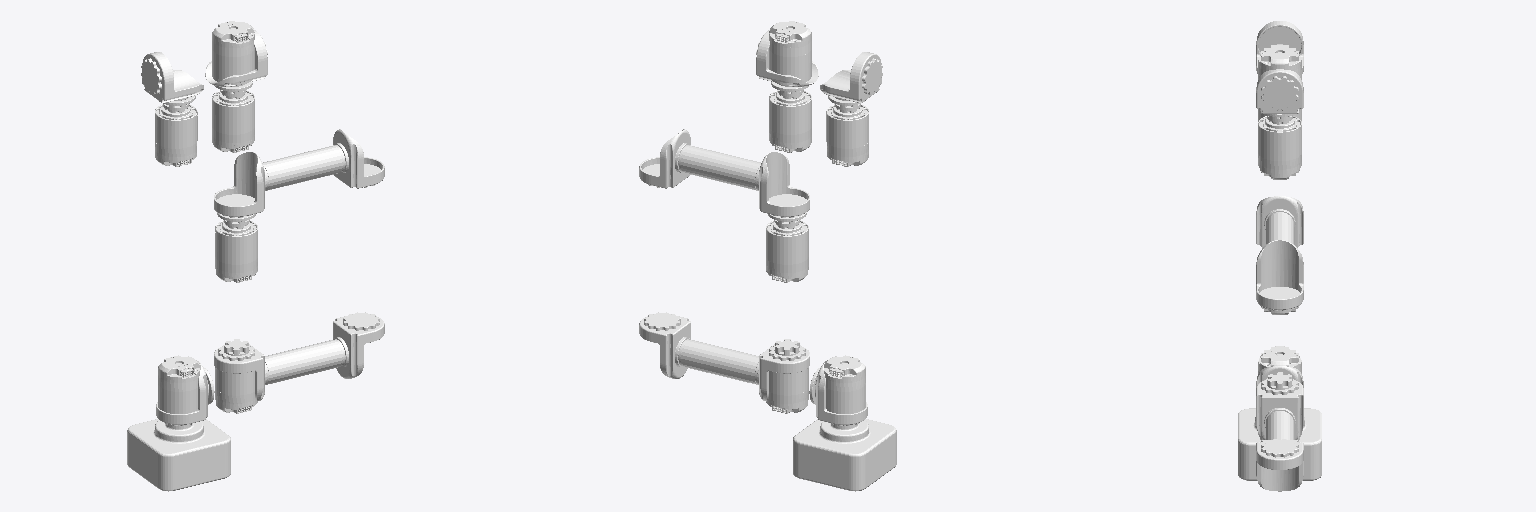
The robot description file, URDF, robot "gluon":
<?xml version="1.0" encoding="utf-8"?>
<!-- This URDF was automatically created by SolidWorks to URDF Exporter! Originally created by [author] ([email redacted]) 
     Commit Version: 1.5.1-0-g916b5db  Build Version: 1.5.7152.31018
     For more information, please see http://wiki.ros.org/sw_urdf_exporter -->
<robot
  name="gluon">
  <link
    name="dummy">
  </link>
  <link
    name="base_link">
    <inertial>
      <origin
        xyz="4.33680868994202E-18 -6.00214600243731E-11 0.0271404483614374"
        rpy="0 0 0" />
      <mass
        value="0.524001417146026" />
      <inertia
        ixx="0.000535467082580035"
        ixy="-5.8056109802237E-10"
        ixz="3.22416889484249E-20"
        iyy="0.000535467122847014"
        iyz="-1.91837356854663E-11"
        izz="0.000799852045598815" />
    </inertial>
    <visual>
      <origin
        xyz="0 0 0"
        rpy="0 0 0" />
      <geometry>
        <mesh
          filename="./dae_meshes/base_link.dae" />
      </geometry>
      <material
        name="">
        <color
          rgba="1 1 1 1" />
      </material>
    </visual>
  </link>
  <link
    name="1_Link">
    <inertial>
      <origin
        xyz="0.00464247258603146 -3.55800695980568E-05 -0.000556506974114818"
        rpy="0 0 0" />
      <mass
        value="0.166259789544396" />
      <inertia
        ixx="6.76518298922659E-05"
        ixy="-1.5556489245956E-08"
        ixz="-8.15879264327807E-06"
        iyy="6.70385565720365E-05"
        iyz="4.11369338798553E-08"
        izz="6.03698353342124E-05" />
    </inertial>
    <visual>
      <origin
        xyz="0 0 0"
        rpy="0 0 0" />
      <geometry>
        <mesh
          filename="./dae_meshes/1_Link.dae" />
      </geometry>
      <material
        name="">
        <color
          rgba="1 1 1 1" />
      </material>
    </visual>
  </link>
  <link
    name="2_Link">
    <inertial>
      <origin
        xyz="-0.00354399449686532 6.83167072432211E-06 0.0535596075762168"
        rpy="0 0 0" />
      <mass
        value="0.316094041078938" />
      <inertia
        ixx="0.000174638310500152"
        ixy="-4.1835416811351E-08"
        ixz="-2.08841744154906E-07"
        iyy="0.000184936237600061"
        iyz="1.60668786323061E-08"
        izz="0.000107780595065675" />
    </inertial>
    <visual>
      <origin
        xyz="0 0 0"
        rpy="0 0 0" />
      <geometry>
        <mesh
          filename="./dae_meshes/2_Link.dae" />
      </geometry>
      <material
        name="">
        <color
          rgba="1 1 1 1" />
      </material>
    </visual>
  </link>
  <link
    name="3_Link">
    <inertial>
      <origin
        xyz="-0.046552753550141 -6.68259662081616E-06 0.0523242797053055"
        rpy="0 0 0" />
      <mass
        value="0.323135746651779" />
      <inertia
        ixx="0.000176611314431077"
        ixy="4.18325643591624E-08"
        ixz="2.08841259569185E-07"
        iyy="0.000185932099122903"
        iyz="1.40317731158265E-08"
        izz="0.000108776454638344" />
    </inertial>
    <visual>
      <origin
        xyz="0 0 0"
        rpy="0 0 0" />
      <geometry>
        <mesh
          filename="./dae_meshes/3_Link.dae" />
      </geometry>
      <material
        name="">
        <color
          rgba="1 1 1 1" />
      </material>
    </visual>
  </link>
  <link
    name="4_Link">
    <inertial>
      <origin
        xyz="0.0182269184920331 1.24412678982888E-05 0.00395855146065832"
        rpy="0 0 0" />
      <mass
        value="0.174947986817189" />
      <inertia
        ixx="6.61039276820243E-05"
        ixy="4.2340099438174E-08"
        ixz="-8.15879264340351E-06"
        iyy="6.76311730651952E-05"
        iyz="-1.4353323683088E-08"
        izz="6.34296690009448E-05" />
    </inertial>
    <visual>
      <origin
        xyz="0 0 0"
        rpy="0 0 0" />
      <geometry>
        <mesh
          filename="./dae_meshes/4_Link.dae" />
      </geometry>
      <material
        name="">
        <color
          rgba="1 1 1 1" />
      </material>
    </visual>
  </link>
  <link
    name="5_Link">
    <inertial>
      <origin
        xyz="0.00395855202736296 -3.51379306736399E-05 0.0182025903111476"
        rpy="0 0 0" />
      <mass
        value="0.174947985033356" />
      <inertia
        ixx="6.34296685392068E-05"
        ixy="1.43441999593359E-08"
        ixz="-8.15879467982627E-06"
        iyy="6.76311733496419E-05"
        iyz="-4.23418981680198E-08"
        izz="6.61039240611986E-05" />
    </inertial>
    <visual>
      <origin
        xyz="0 0 0"
        rpy="0 0 0" />
      <geometry>
        <mesh
          filename="./dae_meshes/5_Link.dae" />
      </geometry>
      <material
        name="">
        <color
          rgba="1 1 1 1" />
      </material>
    </visual>
  </link>
  <link
    name="6_Link">
    <inertial>
      <origin
        xyz="-0.00231632591813243 4.03819823737578E-05 -5.08515816782795E-05"
        rpy="0 0 0" />
      <mass
        value="0.122091979083374" />
      <inertia
        ixx="3.76561532469651E-05"
        ixy="4.18325643595058E-08"
        ixz="-2.08841259371089E-07"
        iyy="4.00422747874576E-05"
        iyz="-1.50489542382975E-08"
        izz="3.97966719504564E-05" />
    </inertial>
    <visual>
      <origin
        xyz="0 0 0"
        rpy="0 0 0" />
      <geometry>
        <mesh
          filename="./dae_meshes/6_Link.dae" />
      </geometry>
      <material
        name="">
        <color
          rgba="1 1 1 1" />
      </material>
    </visual>
  </link>
  <joint
    name="dummy_joint"
    type="fixed">
    <origin
        xyz="0 0 0"
        rpy="0 0 0" />
    <parent
        link="dummy" />
    <child
        link="base_link" />
  </joint>
  <joint
    name="axis_joint_1"
    type="revolute">
    <origin
      xyz="-2.4327E-05 2.2695E-05 0.105"
      rpy="0 0 0" />
    <parent
      link="base_link" />
    <child
      link="1_Link" />
    <axis
      xyz="0 0 1" />
    <limit
      lower="-2.79"
      upper="2.79"
      effort="30"
      velocity="3.14" />
  </joint>
  <joint
    name="axis_joint_2"
    type="revolute">
    <origin
      xyz="0.080113 -2.2695E-05 0"
      rpy="0 1.57079632679 0" />
    <parent
      link="1_Link" />
    <child
      link="2_Link" />
    <axis
      xyz="0 0 1" />
    <limit
      lower="-1.54"
      upper="1.54"
      effort="30"
      velocity="3.14" />
  </joint>
  <joint
    name="axis_joint_3"
    type="revolute">
    <origin
      xyz="-0.17447 0 0"
      rpy="0 0 0" />
    <parent
      link="2_Link" />
    <child
      link="3_Link" />
    <axis
      xyz="0 0 1" />
    <limit
      lower="-2.79"
      upper="2.79"
      effort="30"
      velocity="3.14" />
  </joint>
  <joint
    name="axis_joint_4"
    type="revolute">
    <origin
      xyz="-0.17442 0 -0.084516"
      rpy="0 3.14159265358 0" />
    <parent
      link="3_Link" />
    <child
      link="4_Link" />
    <axis
      xyz="0 0 1" />
    <limit
      lower="-2.79"
      upper="2.79"
      effort="30"
      velocity="3.14" />
  </joint>
  <joint
    name="axis_joint_5"
    type="revolute">
    <origin
      xyz="0 2.2695E-05 -0.080113"
      rpy="0 1.57079632679 0" />
    <parent
      link="4_Link" />
    <child
      link="5_Link" />
    <axis
      xyz="0 0 1" />
    <limit
      lower="-2.79"
      upper="2.79"
      effort="30"
      velocity="3.14" />
  </joint>
  <joint
    name="axis_joint_6"
    type="revolute">
    <origin
      xyz="0 -4.5391E-05 0.080089"
      rpy="0 1.57079632679 0" />
    <parent
      link="5_Link" />
    <child
      link="6_Link" />
    <axis
      xyz="0 0 1" />
    <limit
      lower="-2.79"
      upper="2.79"
      effort="30"
      velocity="3.14" />
  </joint>
</robot>

--- Render facts (derived) ---
The picture shows the robot from 3 angles, left to right: view 1: azimuth 30°, elevation 25°; view 2: azimuth 150°, elevation 25°; view 3: azimuth 270°, elevation 25°; orthographic projection.
Model gluon with 8 links and 7 joints (6 revolute, 1 fixed), rooted at dummy, posed all joints at 0.
Links seen in each view (by area): view 1: 3_Link, 2_Link, base_link, 4_Link, 5_Link, 1_Link, 6_Link; view 2: 3_Link, 2_Link, base_link, 4_Link, 5_Link, 1_Link, 6_Link; view 3: 3_Link, 2_Link, 5_Link, base_link, 4_Link, 1_Link, 6_Link.
Boxes of the visible links, x1,y1,x2,y2 form: 3_Link: [214, 129, 384, 282]; 2_Link: [214, 312, 384, 413]; base_link: [127, 419, 230, 491]; 4_Link: [141, 52, 203, 166]; 5_Link: [205, 30, 267, 152]; 1_Link: [156, 355, 214, 425]; 6_Link: [212, 21, 254, 95]; 3_Link: [639, 129, 809, 282]; 2_Link: [639, 312, 809, 413]; base_link: [793, 419, 896, 491]; 4_Link: [820, 52, 882, 166]; 5_Link: [756, 30, 818, 152]; 1_Link: [809, 355, 867, 425]; 6_Link: [769, 21, 811, 95]; 3_Link: [1256, 196, 1303, 314]; 2_Link: [1256, 372, 1303, 491]; 5_Link: [1256, 69, 1303, 179]; base_link: [1238, 408, 1321, 480]; 4_Link: [1256, 21, 1303, 120]; 1_Link: [1256, 346, 1303, 387]; 6_Link: [1258, 44, 1301, 120].
Bounding box of the posed robot: 0.3324 × 0.1 × 0.5726 m (x, y, z).
7 mesh visuals loaded from 7 distinct referenced files (7 Collada DAE).